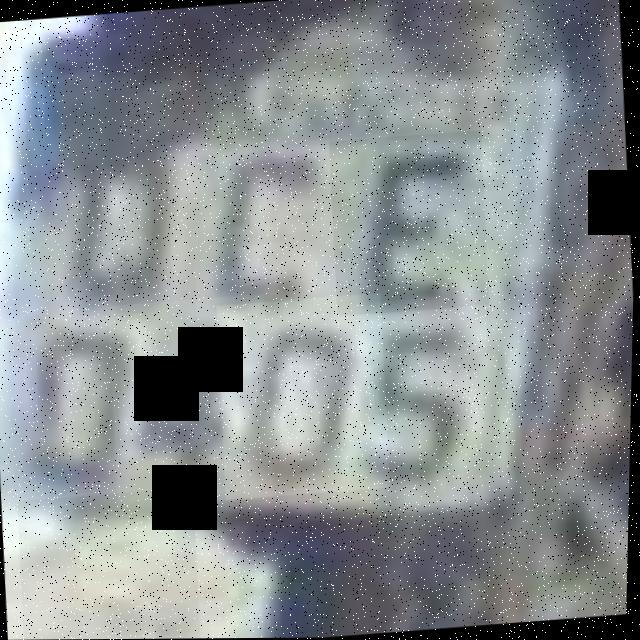0: (214, 293, 395, 500), (0, 303, 157, 502)
3: (17, 487, 205, 640)
4: (106, 293, 279, 509)
5: (330, 294, 499, 492)
C: (185, 125, 341, 319)
E: (326, 130, 493, 316)
